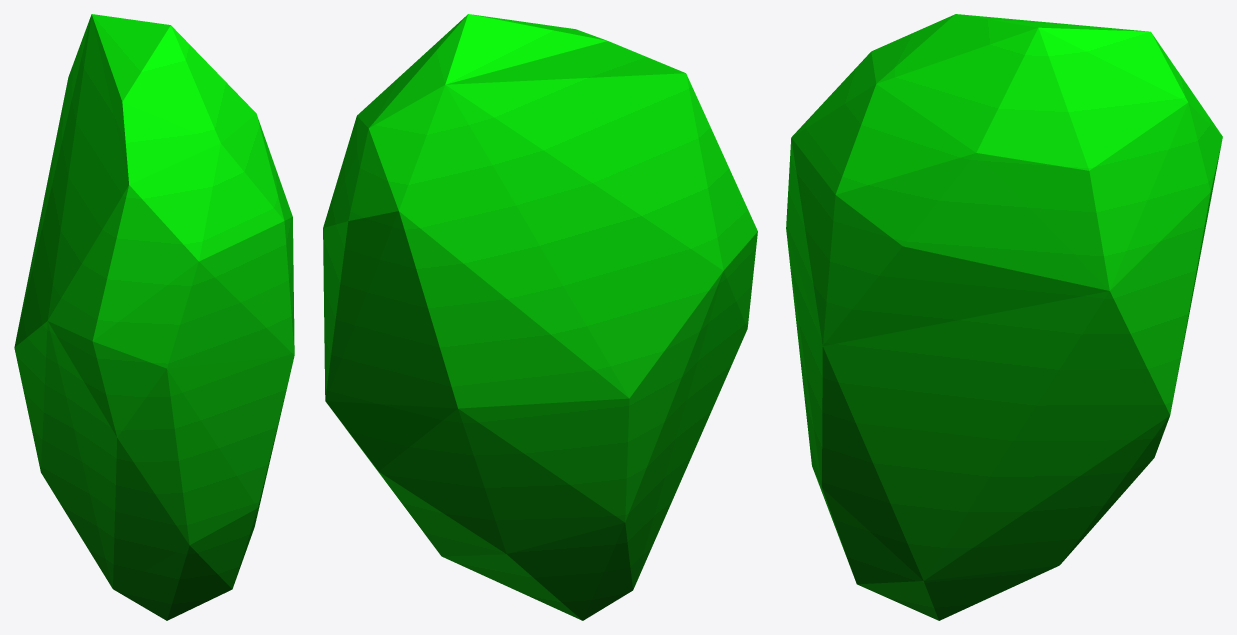
Rendered from Prefab_Foliage_Tree_Birch_Leaves_C.glb.
The picture shows the model from 3 angles, left to right: view 1: azimuth 30°, elevation 25°; view 2: azimuth 150°, elevation 25°; view 3: azimuth 270°, elevation 25°; orthographic projection. The views are drawn at different scales.
Parts seen in each view (by area): view 1: Foliage_Birch_C.005; view 2: Foliage_Birch_C.005; view 3: Foliage_Birch_C.005.
Boxes of the visible parts, box(x1,y1,x2,y2) form: Foliage_Birch_C.005: box(14, 14, 294, 620); Foliage_Birch_C.005: box(323, 14, 757, 620); Foliage_Birch_C.005: box(786, 14, 1222, 620).
Bounding box in the file's own units: 2 × 3.84 × 2.5.
Materials: 1 (1 with a texture image).
